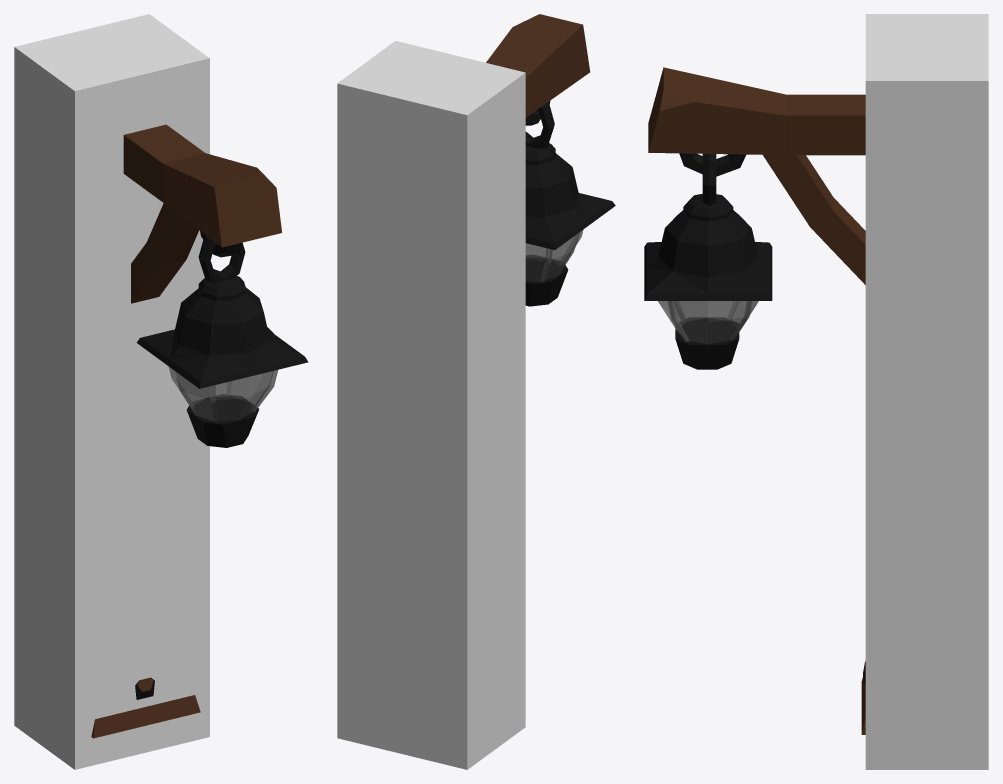
Rendered from wood_hanging_lamp_1.glb.
The picture shows the model from 3 angles, left to right: view 1: azimuth 30°, elevation 25°; view 2: azimuth 150°, elevation 25°; view 3: azimuth 270°, elevation 25°; orthographic projection. The views are drawn at different scales.
Parts seen in each view (by area): view 1: Cube, Lamp_1; view 2: Cube, Lamp_1; view 3: Cube, Lamp_1.
Part boxes in pixels (left/top/right/bottom): Cube: left=14, top=14, right=209, bottom=769; Lamp_1: left=91, top=124, right=308, bottom=738; Cube: left=337, top=41, right=525, bottom=769; Lamp_1: left=486, top=14, right=615, bottom=306; Cube: left=865, top=14, right=988, bottom=769; Lamp_1: left=644, top=67, right=865, bottom=734.
Size of the model in its own units: 0.8248 by 3.96 by 1.79.
